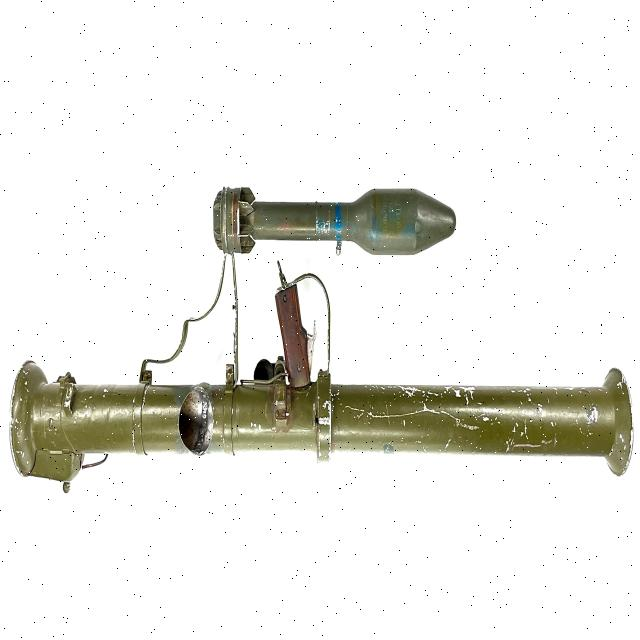bazooka: (6, 273, 640, 506)
